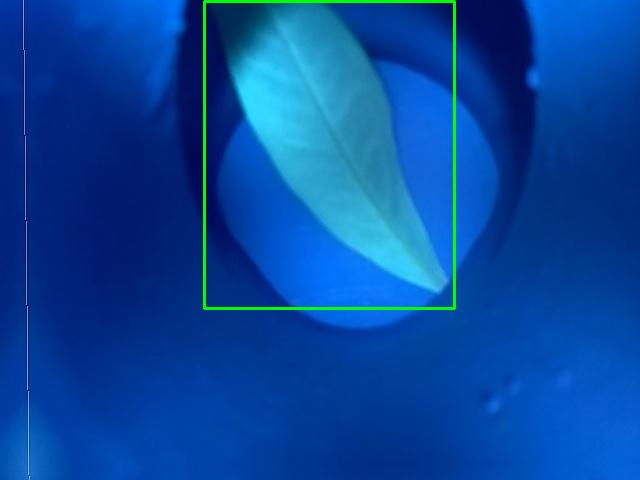feuille: (204, 1, 454, 308)
